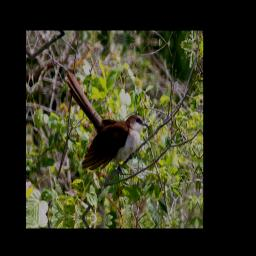Cuckoo: (80, 68, 152, 181)
